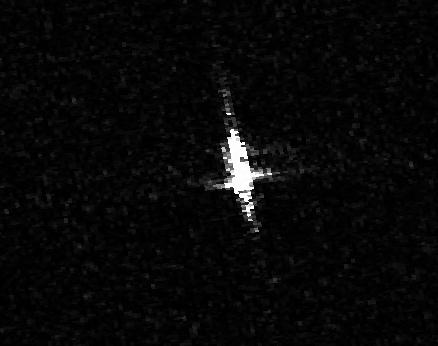ship: (220, 131, 260, 223)
